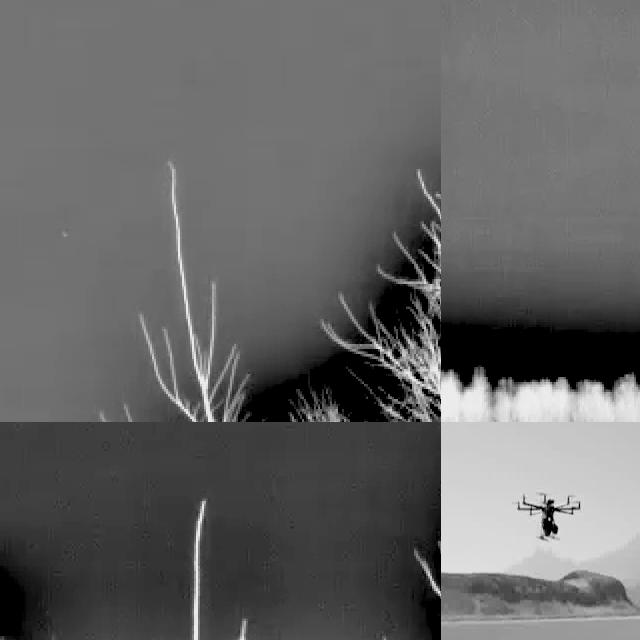0: (47, 219, 73, 254)
drone: (514, 487, 580, 547)
